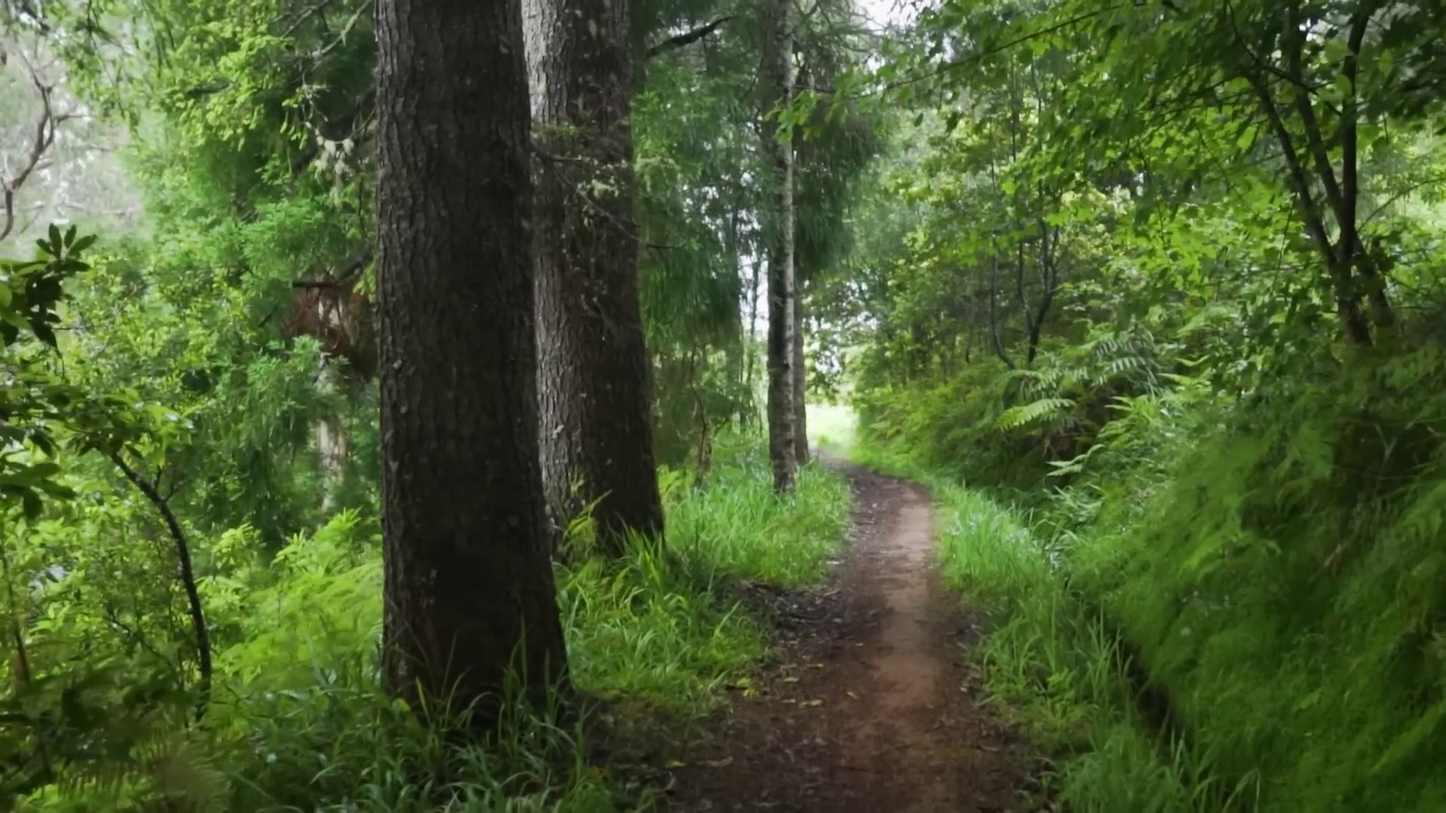tree: (376, 0, 565, 705), (526, 0, 663, 553), (761, 0, 798, 492)
